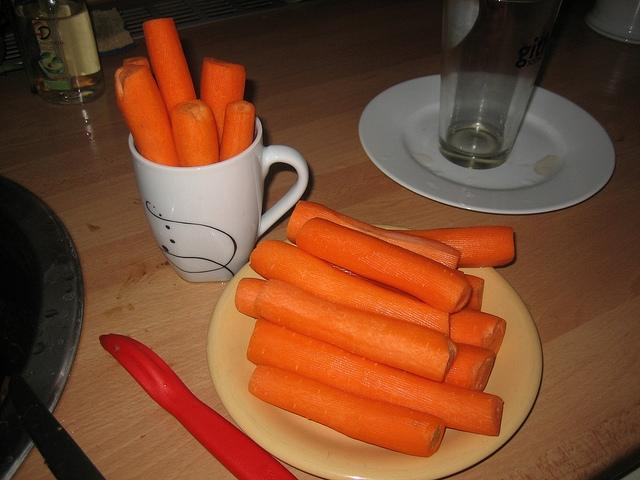carrot: (247, 319, 506, 437), (235, 278, 495, 392), (254, 279, 458, 382), (249, 239, 450, 337), (249, 364, 445, 457), (296, 217, 473, 313), (286, 199, 462, 270), (114, 65, 180, 167), (142, 17, 198, 128), (388, 226, 515, 268), (200, 56, 246, 153), (172, 100, 220, 168), (451, 306, 506, 359), (219, 100, 255, 162), (464, 274, 484, 311), (122, 56, 152, 73)
